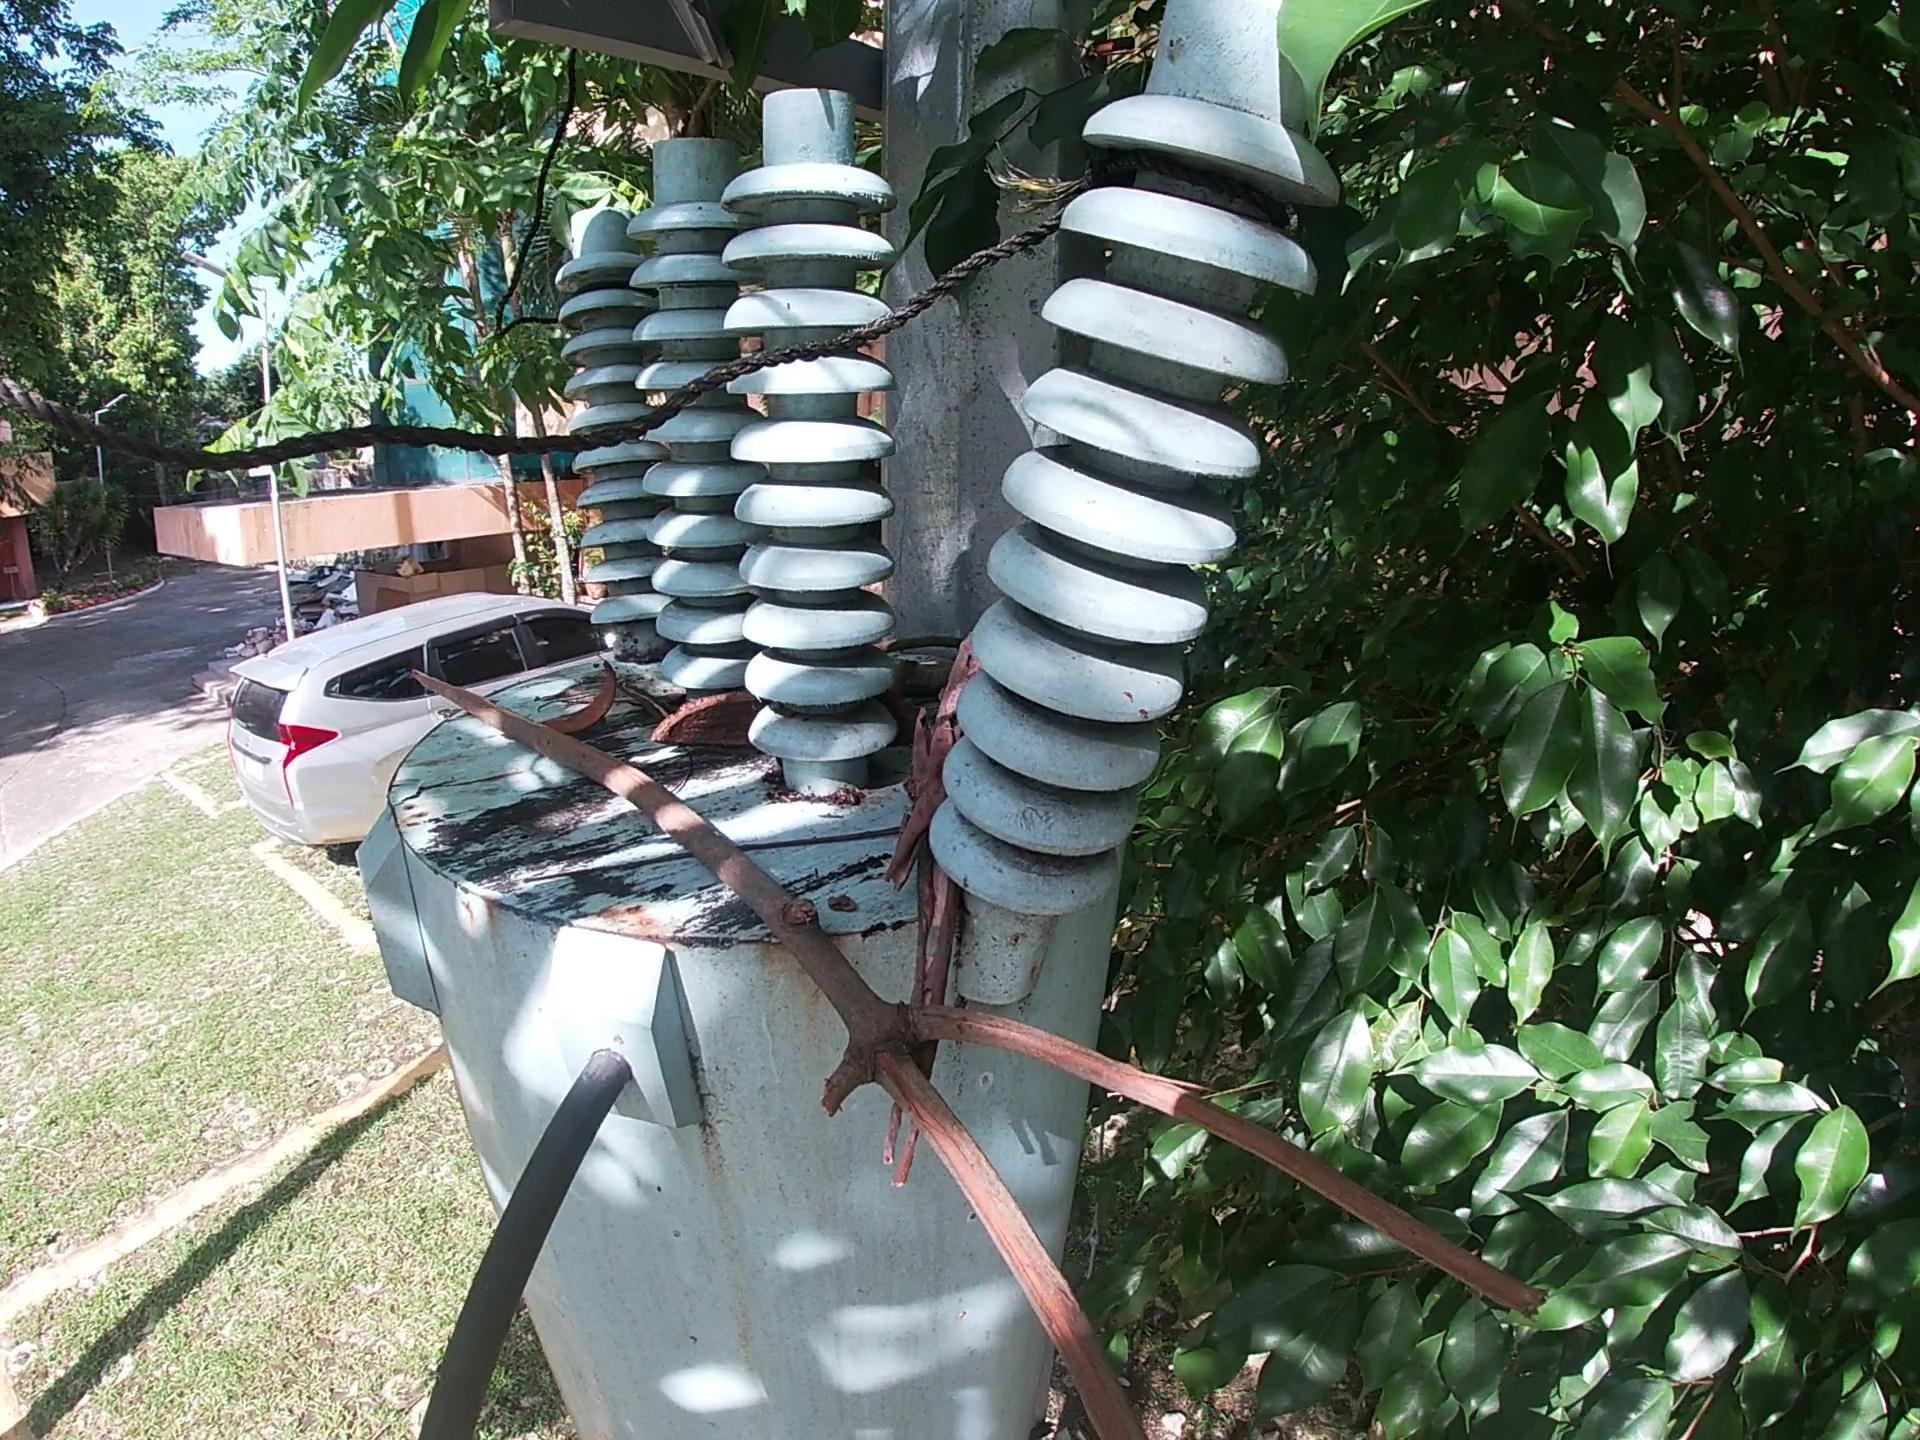mahogany fruit: (646, 687, 773, 756), (538, 658, 621, 740)
tree branch: (393, 653, 1551, 1438), (862, 629, 989, 1218), (875, 632, 974, 659)
